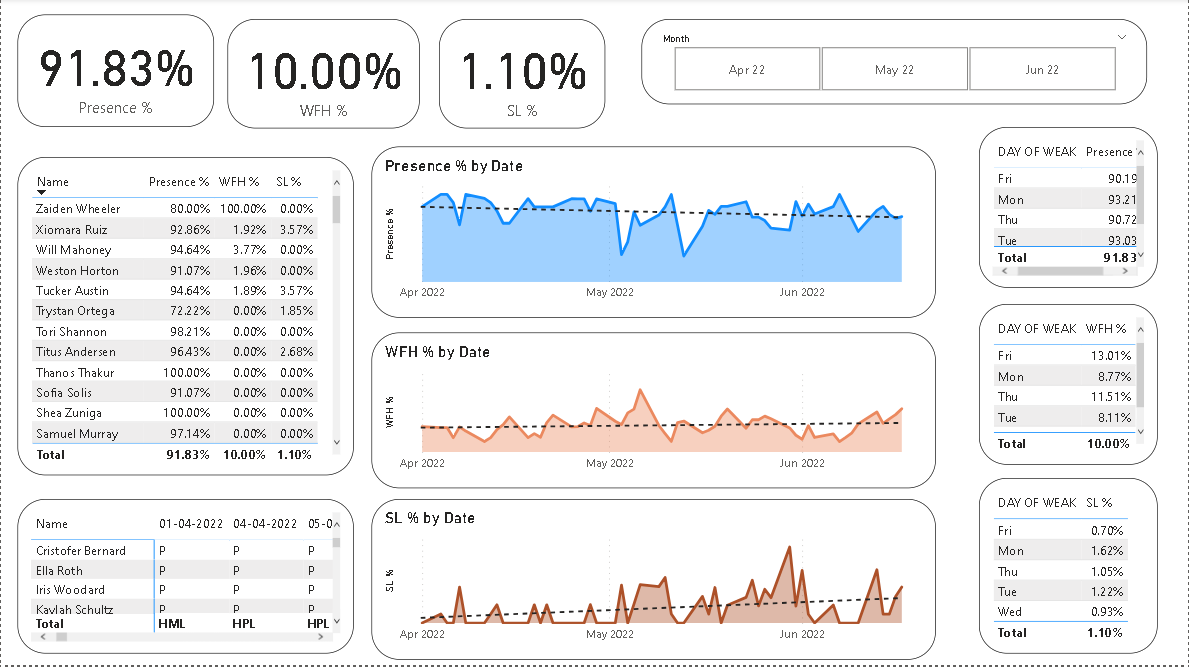

The page's visual inventory and layout, read from the dashboard file:
{"tool":"powerbi","page":{"name":"Page 1","canvas":[1280,720],"ordinal":0},"visuals":[{"type":"card","fields":{"Values":["Measure table.Presence %"]},"box":[17.8,17.8,212,121.3],"z":0},{"type":"slicer","fields":{"Values":["Final Data.Month"]},"box":[690.9,22.7,545.3,92.2],"z":1000},{"type":"card","fields":{"Values":["Measure table.SL %"]},"box":[472.4,22.7,179.6,118.1],"z":2000},{"type":"card","fields":{"Values":["Measure table.WFH %"]},"box":[244.3,22.7,207.1,118.1],"z":3000},{"type":"tableEx","fields":{"Values":["Final Data.Name","Measure table.Presence %","Measure table.WFH %","Measure table.SL %"]},"box":[17.8,171.5,362.4,343],"z":4000},{"type":"pivotTable","fields":{"Rows":["Final Data.Name"],"Values":["Final Data.Value"],"Columns":["Final Data.Date"]},"box":[17.8,540.4,362.4,166.7],"z":5000},{"type":"areaChart","fields":{"Y":["Measure table.Presence %"],"Category":["Final Data.Date"]},"box":[399.6,160.2,608.4,184.4],"z":6000},{"type":"areaChart","fields":{"Y":["Measure table.WFH %"],"Category":["Final Data.Date"]},"box":[399.6,360.8,608.4,168.3],"z":7000},{"type":"areaChart","fields":{"Y":["Measure table.SL %"],"Category":["Final Data.Date"]},"box":[399.6,540.4,608.4,173.1],"z":8000},{"type":"tableEx","fields":{"Values":["Final Data.DAY OF WEAK","Measure table.Presence %"]},"box":[1054.9,139.1,192.5,173.1],"z":9000},{"type":"tableEx","fields":{"Values":["Final Data.DAY OF WEAK","Measure table.WFH %"]},"box":[1054.9,330.1,192.5,173.1],"z":10000},{"type":"tableEx","fields":{"Values":["Final Data.DAY OF WEAK","Measure table.SL %"]},"box":[1054.9,517.8,192.5,189.3],"z":11000}]}

Visuals, with their boxes in screenshot pixels (x1, y1, x2, y2), scaled from the page's 1280x720 canvas onto the 1189x667 screenshot:
card - Measure table.Presence %: Rect(17, 16, 213, 129)
slicer - Final Data.Month: Rect(642, 21, 1148, 106)
card - Measure table.SL %: Rect(439, 21, 606, 130)
card - Measure table.WFH %: Rect(227, 21, 419, 130)
tableEx - Final Data.Name x Measure table.Presence %: Rect(17, 159, 353, 477)
pivotTable - Final Data.Name x Final Data.Value: Rect(17, 501, 353, 655)
areaChart - Measure table.Presence % x Final Data.Date: Rect(371, 148, 936, 319)
areaChart - Measure table.WFH % x Final Data.Date: Rect(371, 334, 936, 490)
areaChart - Measure table.SL % x Final Data.Date: Rect(371, 501, 936, 661)
tableEx - Final Data.DAY OF WEAK x Measure table.Presence %: Rect(980, 129, 1159, 289)
tableEx - Final Data.DAY OF WEAK x Measure table.WFH %: Rect(980, 306, 1159, 466)
tableEx - Final Data.DAY OF WEAK x Measure table.SL %: Rect(980, 480, 1159, 655)
